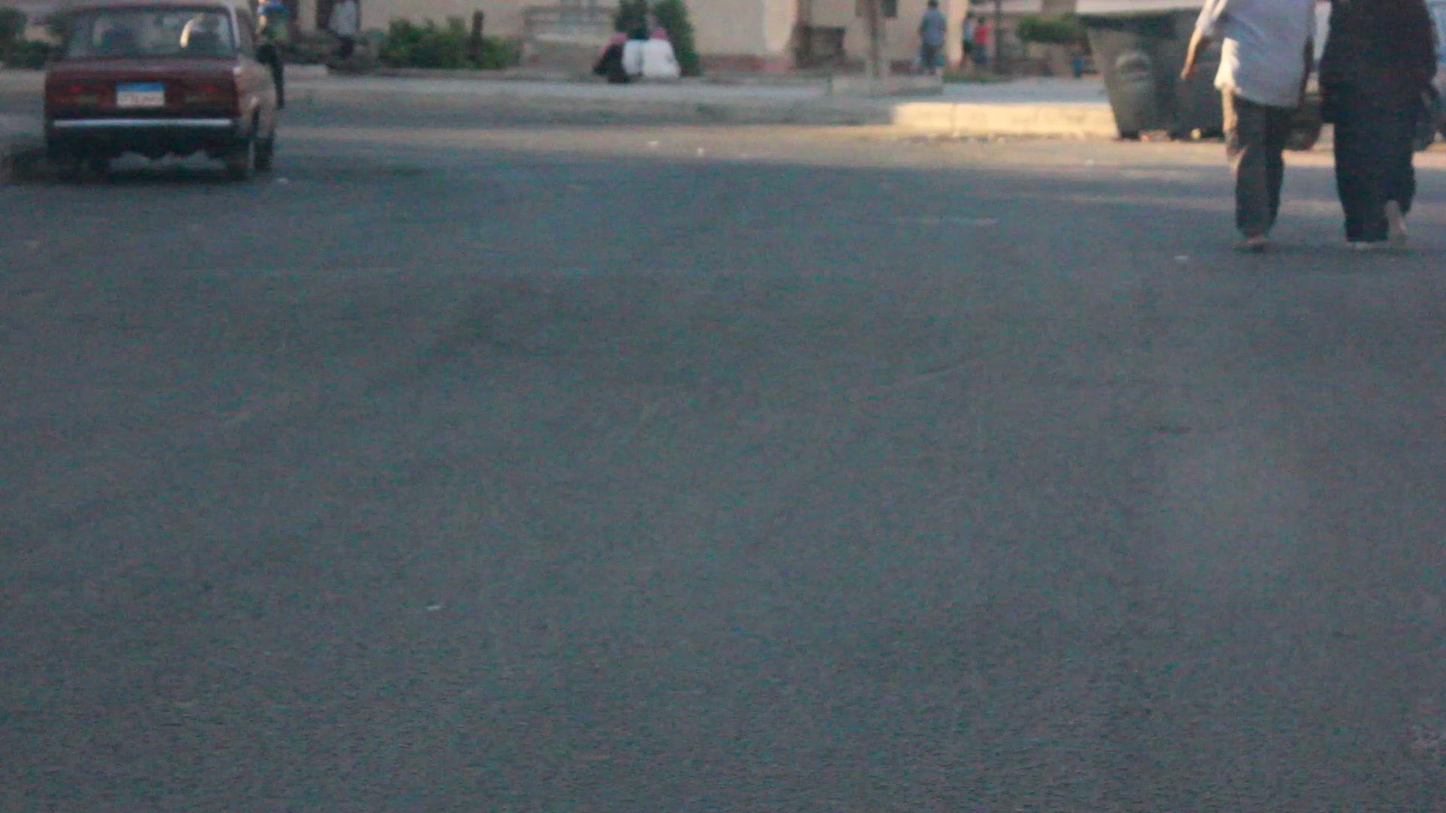Bump: (0, 252, 1445, 354)
